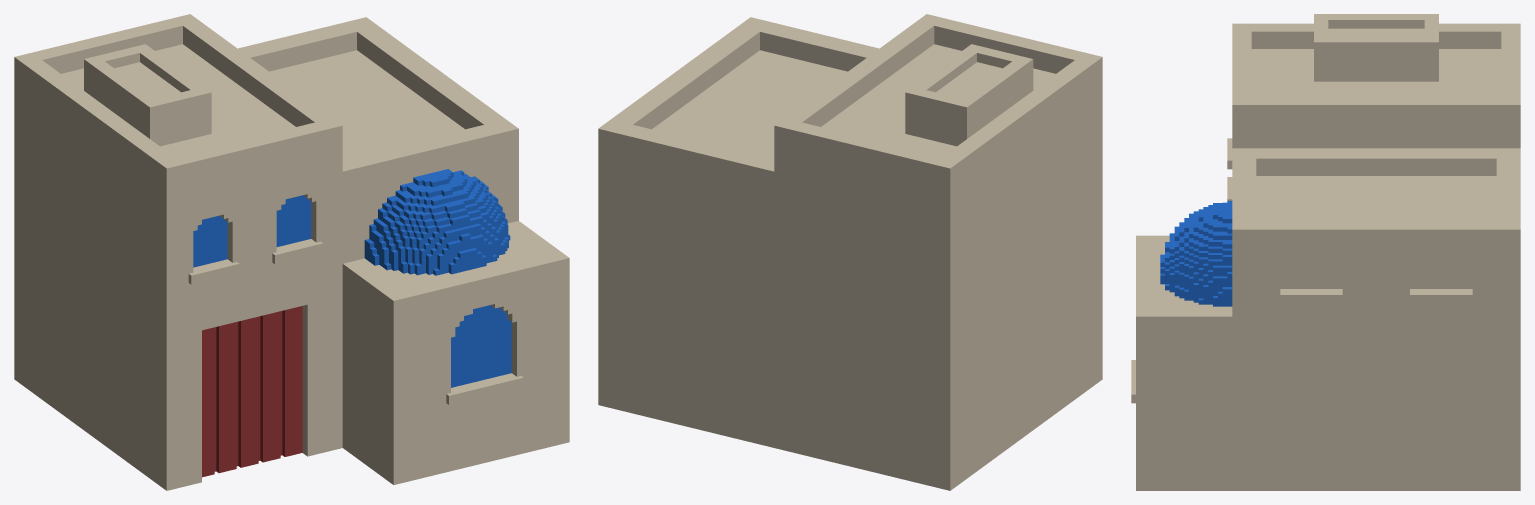
File: Background_C_house_02.FBX
The picture shows the model from 3 angles, left to right: view 1: azimuth 30°, elevation 25°; view 2: azimuth 150°, elevation 25°; view 3: azimuth 270°, elevation 25°; orthographic projection. The views are drawn at different scales.
Visible parts, largest first — view 1: Background_C-21; view 2: Background_C-21; view 3: Background_C-21.
Boxes of the visible parts, x1,y1,x2,y2 form: Background_C-21: (14,14,569,490); Background_C-21: (598,14,1102,490); Background_C-21: (1131,14,1520,490).
Size of the model in its own units: 8 by 7.5 by 8.1.
Materials: 1 (1 with a texture image).
